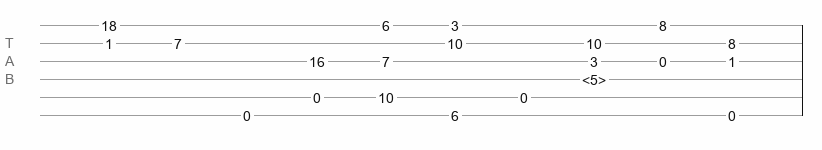0: (243, 108, 251, 118), (313, 90, 321, 100), (520, 90, 528, 100), (659, 54, 667, 64), (728, 108, 736, 118)
1: (105, 36, 113, 46), (728, 54, 736, 64)
10: (378, 90, 394, 100), (447, 36, 463, 46), (586, 36, 602, 46)
16: (309, 54, 325, 64)
18: (101, 18, 117, 28)
3: (451, 18, 459, 28), (590, 54, 598, 64)
6: (382, 18, 390, 28), (451, 108, 459, 118)
7: (174, 36, 182, 46), (382, 54, 390, 64)
8: (659, 18, 667, 28), (728, 36, 736, 46)
harmonic: (582, 72, 606, 82)
